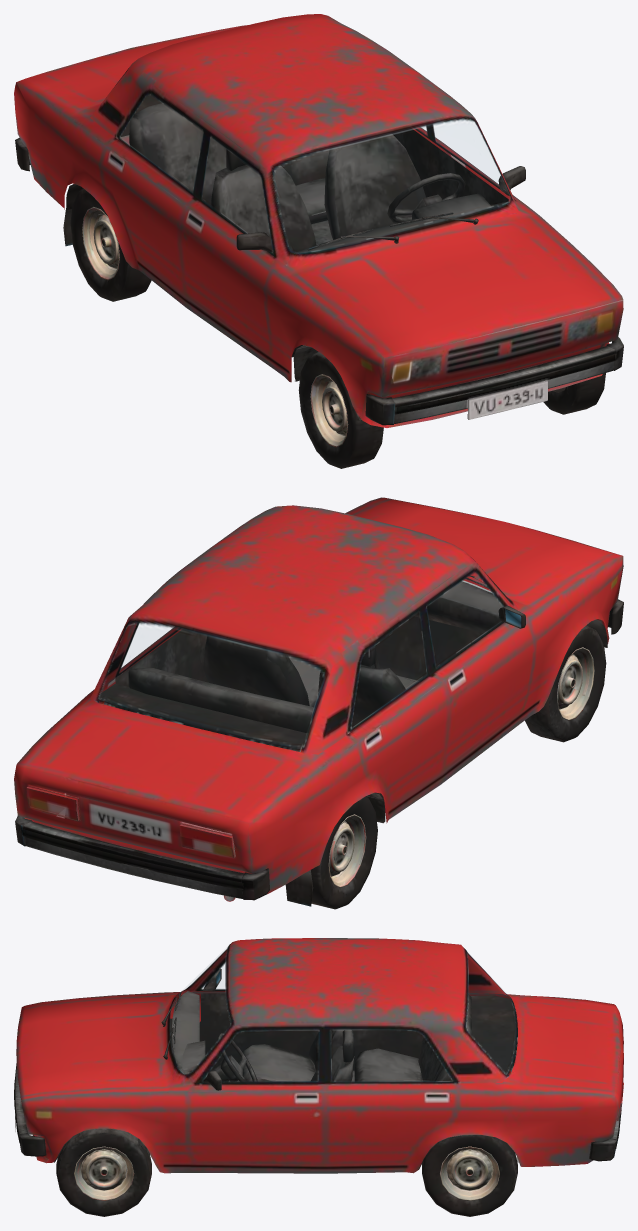
3 renders of one model, top to bottom at view 1: azimuth 30°, elevation 25°; view 2: azimuth 150°, elevation 25°; view 3: azimuth 270°, elevation 25°, orthographic. The views are drawn at different scales.
Visible parts, largest first — view 1: lada_riva_sasija_lp, lada_riva_body_lp; view 2: lada_riva_sasija_lp, lada_riva_body_lp; view 3: lada_riva_sasija_lp, lada_riva_body_lp.
Boxes of the visible parts, bbox=[...] form: lada_riva_sasija_lp: bbox=[14, 14, 623, 447]; lada_riva_body_lp: bbox=[15, 94, 623, 468]; lada_riva_sasija_lp: bbox=[14, 497, 623, 901]; lada_riva_body_lp: bbox=[15, 575, 623, 909]; lada_riva_sasija_lp: bbox=[16, 938, 623, 1200]; lada_riva_body_lp: bbox=[14, 968, 621, 1216].
Size of the model in its own units: 1.8 by 1.5 by 4.13.
Materials: 2 (2 with a texture image).
